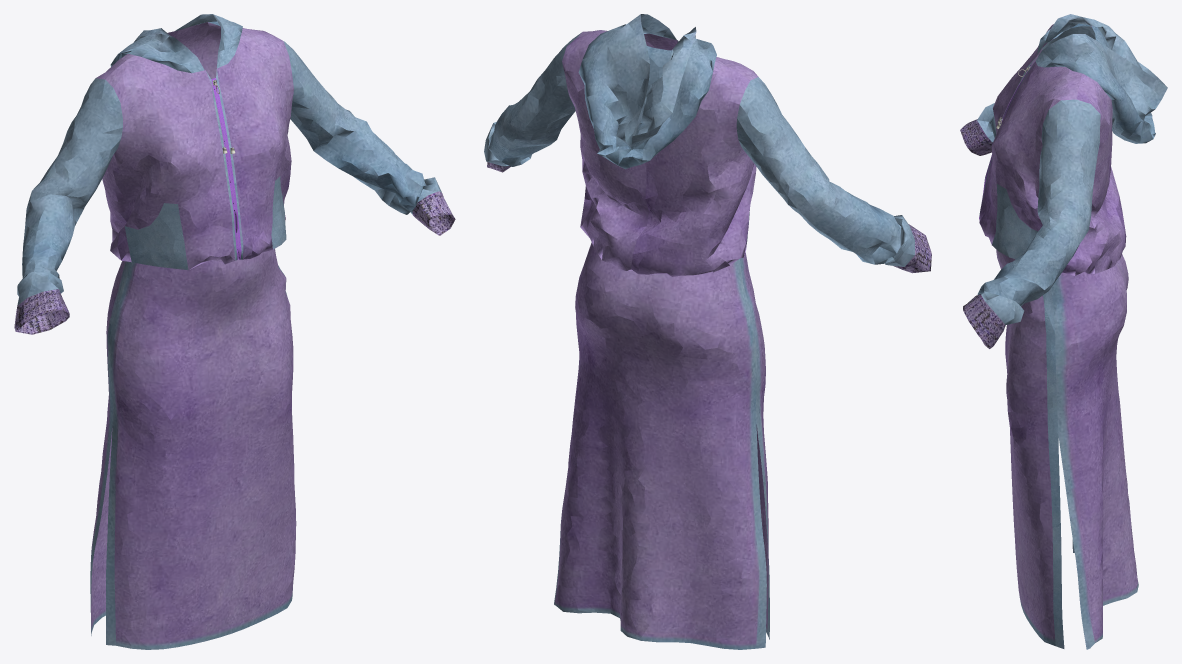
The model's file is elvs-sporty-tracksuit-hoodie-dress1.glb.
3 renders of one model, left to right at view 1: azimuth 30°, elevation 25°; view 2: azimuth 150°, elevation 25°; view 3: azimuth 270°, elevation 25°, orthographic. The views are drawn at different scales.
Visible parts, largest first — view 1: sporty tracksuit hoodie dress; view 2: sporty tracksuit hoodie dress; view 3: sporty tracksuit hoodie dress.
Boxes of the visible parts, x1,y1,x2,y2 form: sporty tracksuit hoodie dress: [14, 14, 455, 649]; sporty tracksuit hoodie dress: [484, 14, 931, 649]; sporty tracksuit hoodie dress: [960, 14, 1167, 649].
Size of the model in its own units: 94.76 by 124 by 40.3.
Materials: 1 (1 with a texture image).
